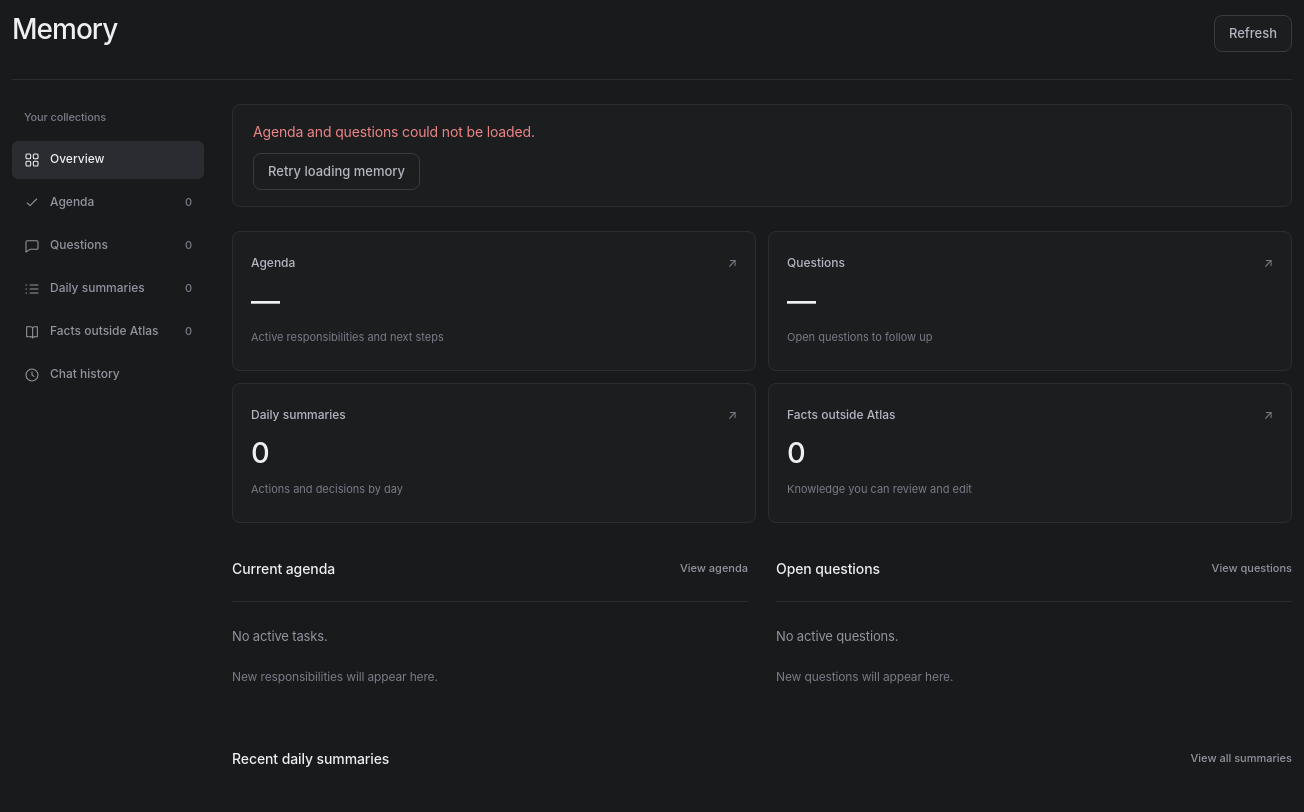
Scenario: MemoryPage › keeps other memory available when a source fails and supports retry
Check: the text "Agenda and questions could not be loaded." is shown, box [253,123,535,140]
Step 1. Click the button "Facts outside Atlas 0" → point(108, 332), box [12,313,204,351]
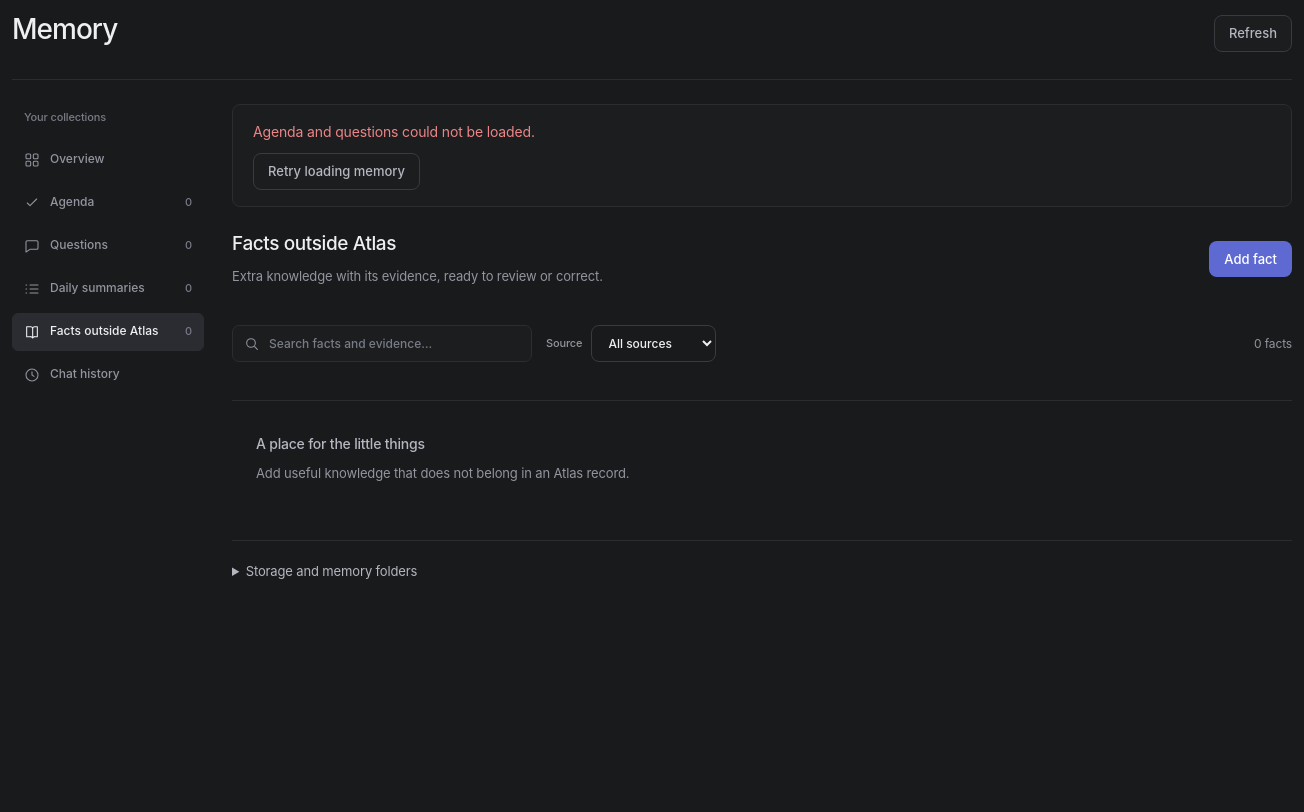
Check: the button "Add fact" is shown, box [1209,241,1292,277]
Step 2. Click the button "Retry loading memory" → point(337, 172), box [253,153,420,190]
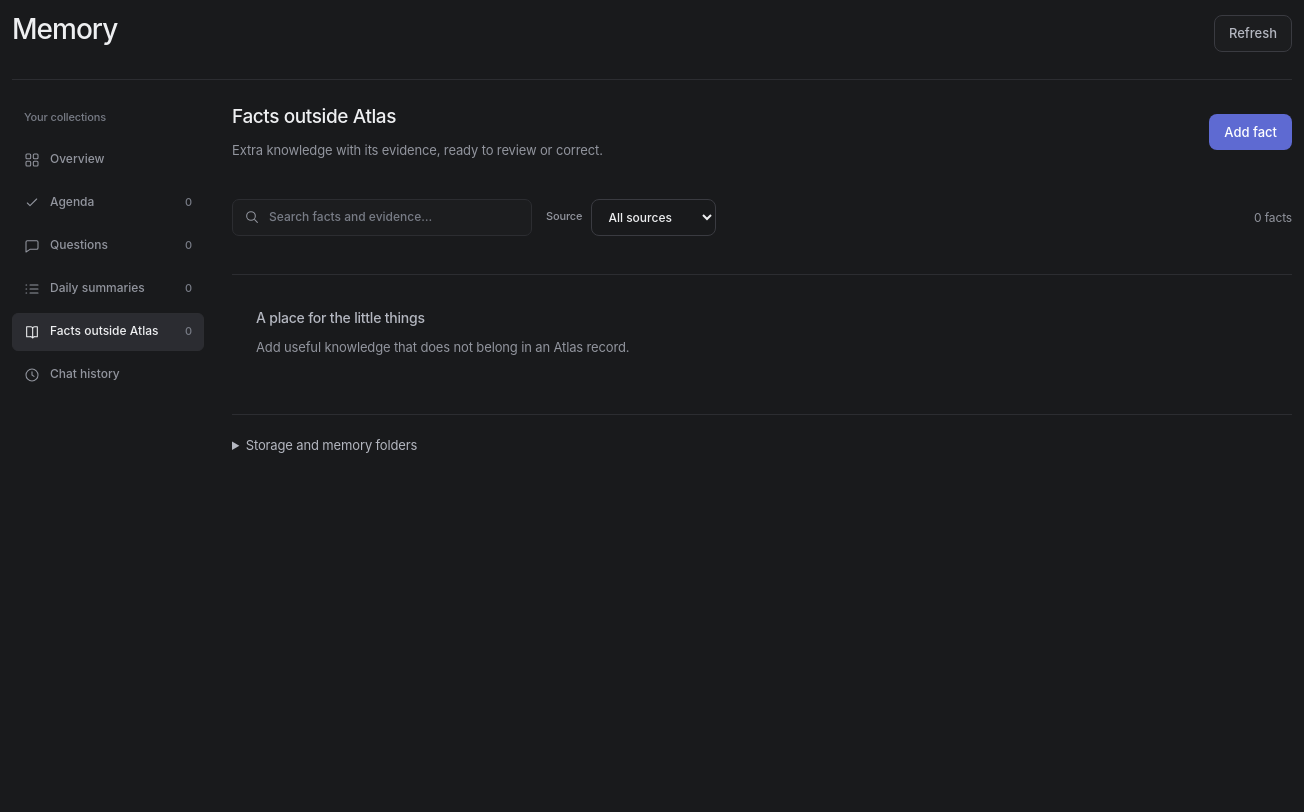
Check: the text "Agenda and questions could not be loaded." is gone
